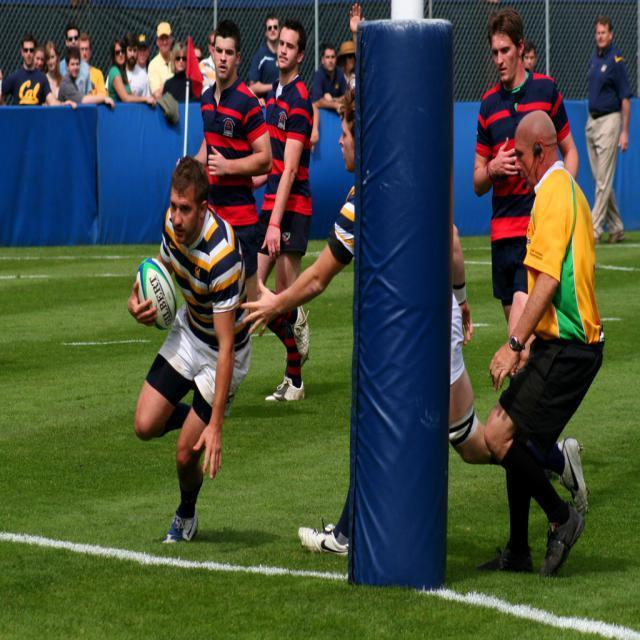football: (129, 246, 183, 335)
